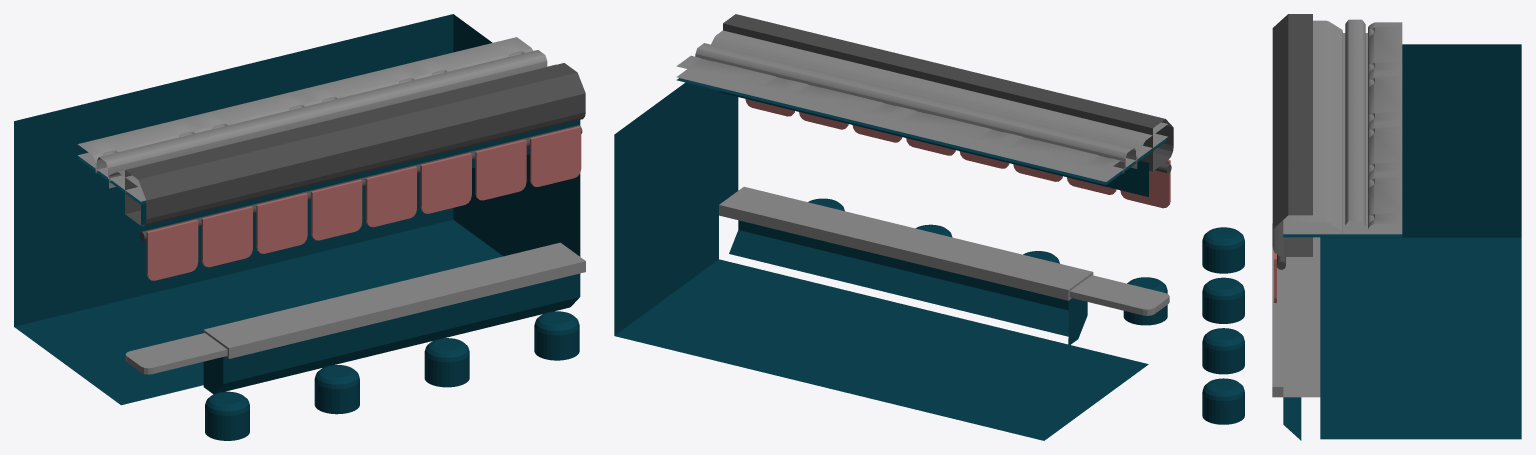
Rendered from MB_Restaurant_Straight_Bottom_Large.fbx.
The picture shows the model from 3 angles, left to right: view 1: azimuth 30°, elevation 25°; view 2: azimuth 150°, elevation 25°; view 3: azimuth 270°, elevation 25°; orthographic projection. The views are drawn at different scales.
Visible parts, largest first — view 1: Cube.6049; view 2: Cube.6049; view 3: Cube.6049.
Part boxes in pixels (box(x1,y1,x2,y2)): Cube.6049: box(14, 14, 585, 440); Cube.6049: box(614, 14, 1173, 440); Cube.6049: box(1202, 14, 1521, 440).
Size of the model in its own units: 8 by 4.18 by 5.36.
